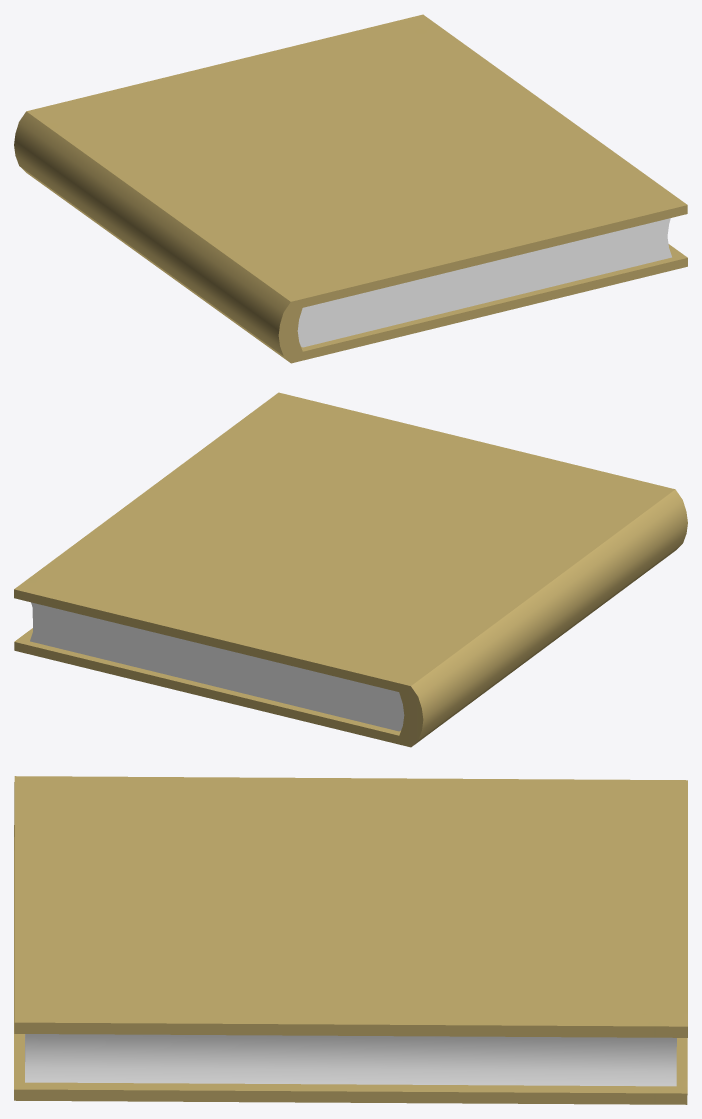
The model's file is yellowbook.fbx.
3 renders of one model, top to bottom at view 1: azimuth 30°, elevation 25°; view 2: azimuth 150°, elevation 25°; view 3: azimuth 270°, elevation 25°, orthographic. The views are drawn at different scales.
Parts seen in each view (by area): view 1: polySurface12; view 2: polySurface12; view 3: polySurface12.
Part boxes in pixels (bbox=[...]): polySurface12: bbox=[14, 14, 687, 363]; polySurface12: bbox=[14, 392, 687, 747]; polySurface12: bbox=[14, 776, 687, 1104].
Bounding box in the file's own units: 0.00277 × 0.000419 × 0.00311.
Materials: 1 (1 with a texture image).
